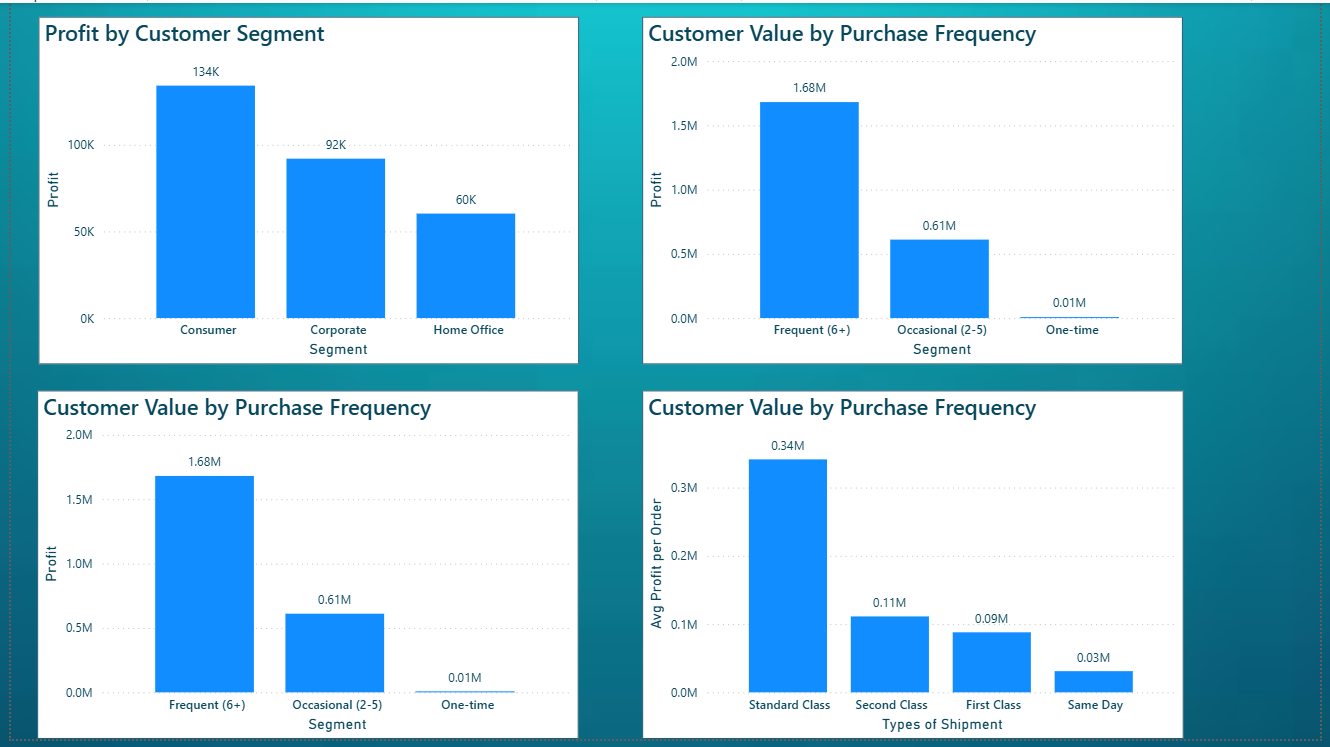

The page's visual inventory and layout, read from the dashboard file:
{"tool":"powerbi","page":{"name":"Page 3","canvas":[1280,720],"ordinal":2},"visuals":[{"type":"clusteredColumnChart","title":"Profit by Customer Segment","fields":{"Y":["Sum(cleaned_superstore.profit)"],"Category":["cleaned_superstore.segment"]},"box":[27.4,13,529,340],"z":6000},{"type":"clusteredColumnChart","title":"Customer Value by Purchase Frequency","fields":{"Category":["cleaned_superstore.Customer Type"],"Y":["Sum(cleaned_superstore.sales)"]},"box":[617.5,13,529,340],"z":8001},{"type":"clusteredColumnChart","title":"Customer Value by Purchase Frequency","fields":{"Category":["cleaned_superstore.Customer Type"],"Y":["Sum(cleaned_superstore.sales)"]},"box":[26,379.4,529.5,340.5],"z":8002},{"type":"clusteredColumnChart","title":"Customer Value by Purchase Frequency","fields":{"Category":["cleaned_superstore.ship_mode"],"Y":["Sum(cleaned_superstore.Avg Profit per Order)"]},"box":[617.5,379.4,529.5,340.5],"z":8003}]}

Visuals, with their boxes in screenshot pixels (x1, y1, x2, y2), scaled from the page's 1280x720 canvas onto the 1330x747 screenshot:
"Profit by Customer Segment" clusteredColumnChart: <box>28,13,578,366</box>
"Customer Value by Purchase Frequency" clusteredColumnChart: <box>642,13,1191,366</box>
"Customer Value by Purchase Frequency" clusteredColumnChart: <box>27,394,577,746</box>
"Customer Value by Purchase Frequency" clusteredColumnChart: <box>642,394,1192,746</box>
